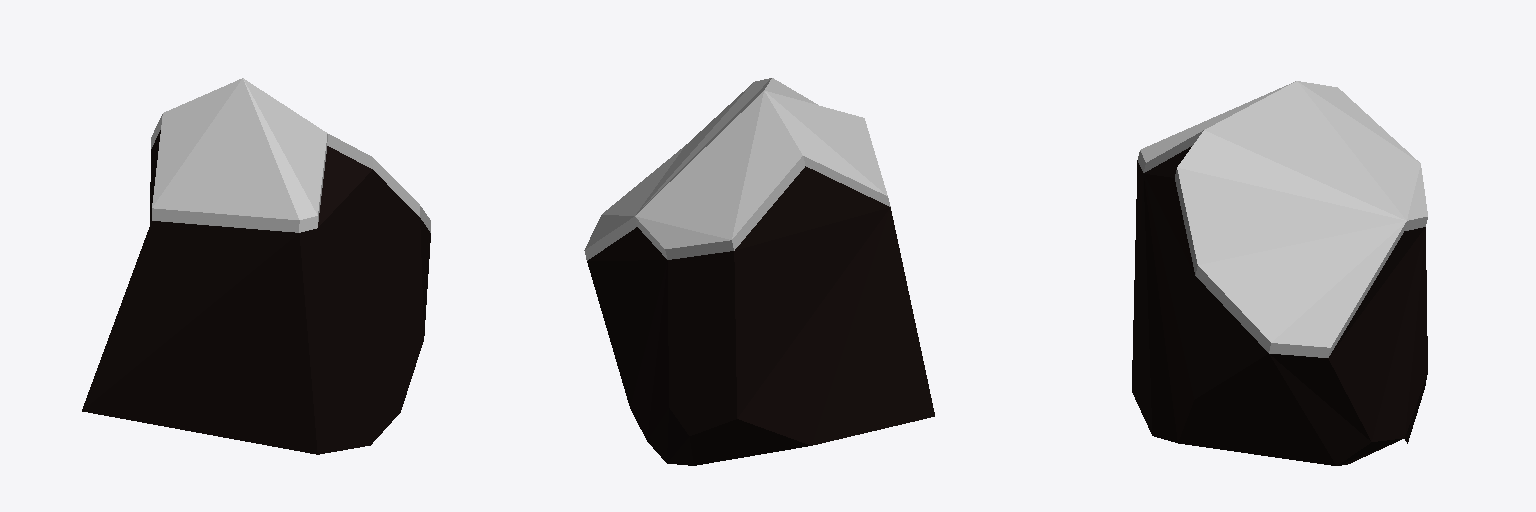
File: Rock_2.obj
The picture shows the model from 3 angles: view 1: azimuth 30°, elevation 25°; view 2: azimuth 150°, elevation 25°; view 3: azimuth 270°, elevation 25°; orthographic projection.
Visible parts, largest first — view 1: Cube.007_Cube.008; view 2: Cube.007_Cube.008; view 3: Cube.007_Cube.008.
Boxes of the visible parts, <box> form: Cube.007_Cube.008: <box>82,78,430,454</box>; Cube.007_Cube.008: <box>584,78,934,465</box>; Cube.007_Cube.008: <box>1132,81,1427,465</box>.
Bounding box in the file's own units: 1.94 × 1.88 × 1.46.